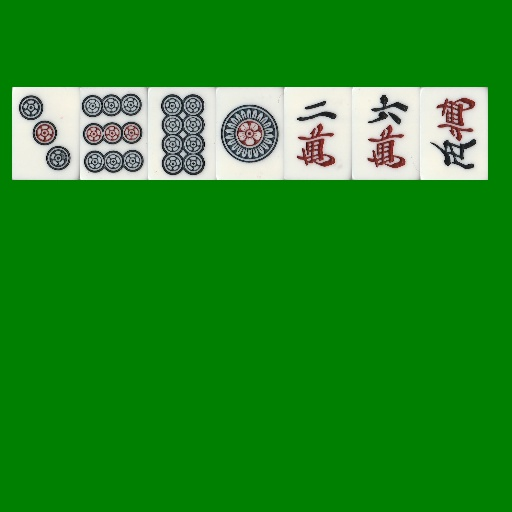1p: (216, 87, 284, 180)
2m: (284, 87, 352, 180)
3p: (12, 87, 80, 180)
5m: (420, 87, 488, 180)
6m: (352, 87, 420, 180)
8p: (148, 87, 216, 180)
9p: (80, 87, 148, 180)
